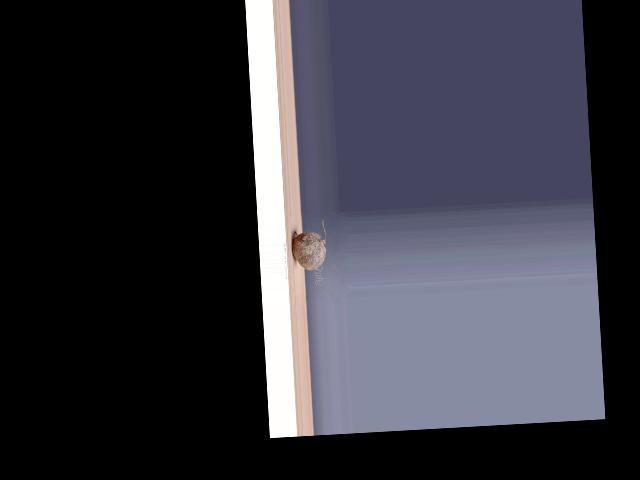beet: (291, 218, 327, 271)
